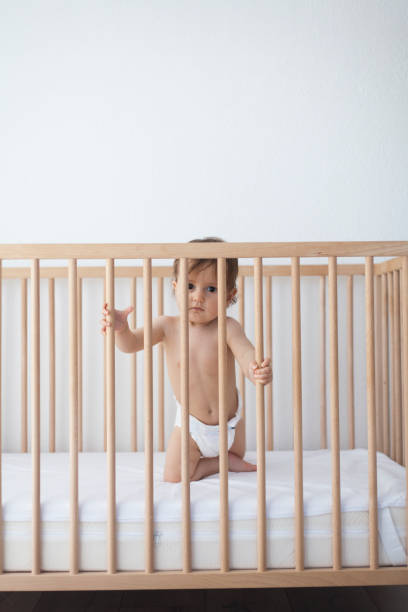baby: (188, 259, 218, 480)
crib: (0, 242, 407, 589)
